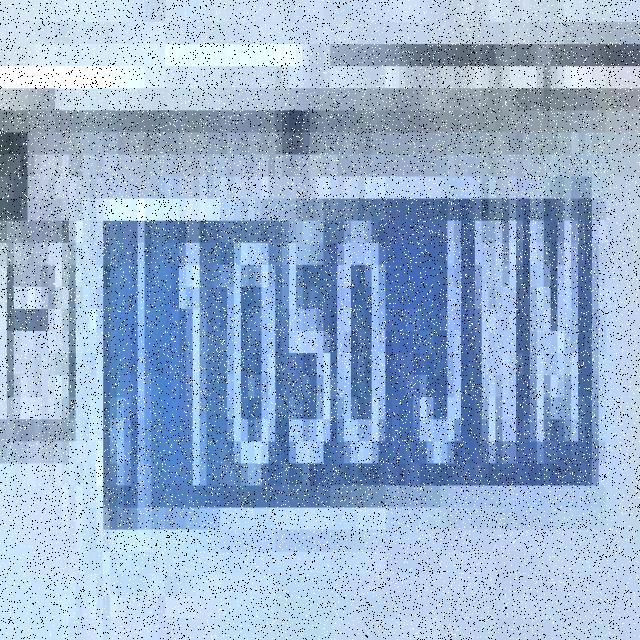licenseplate: (86, 158, 612, 558)
